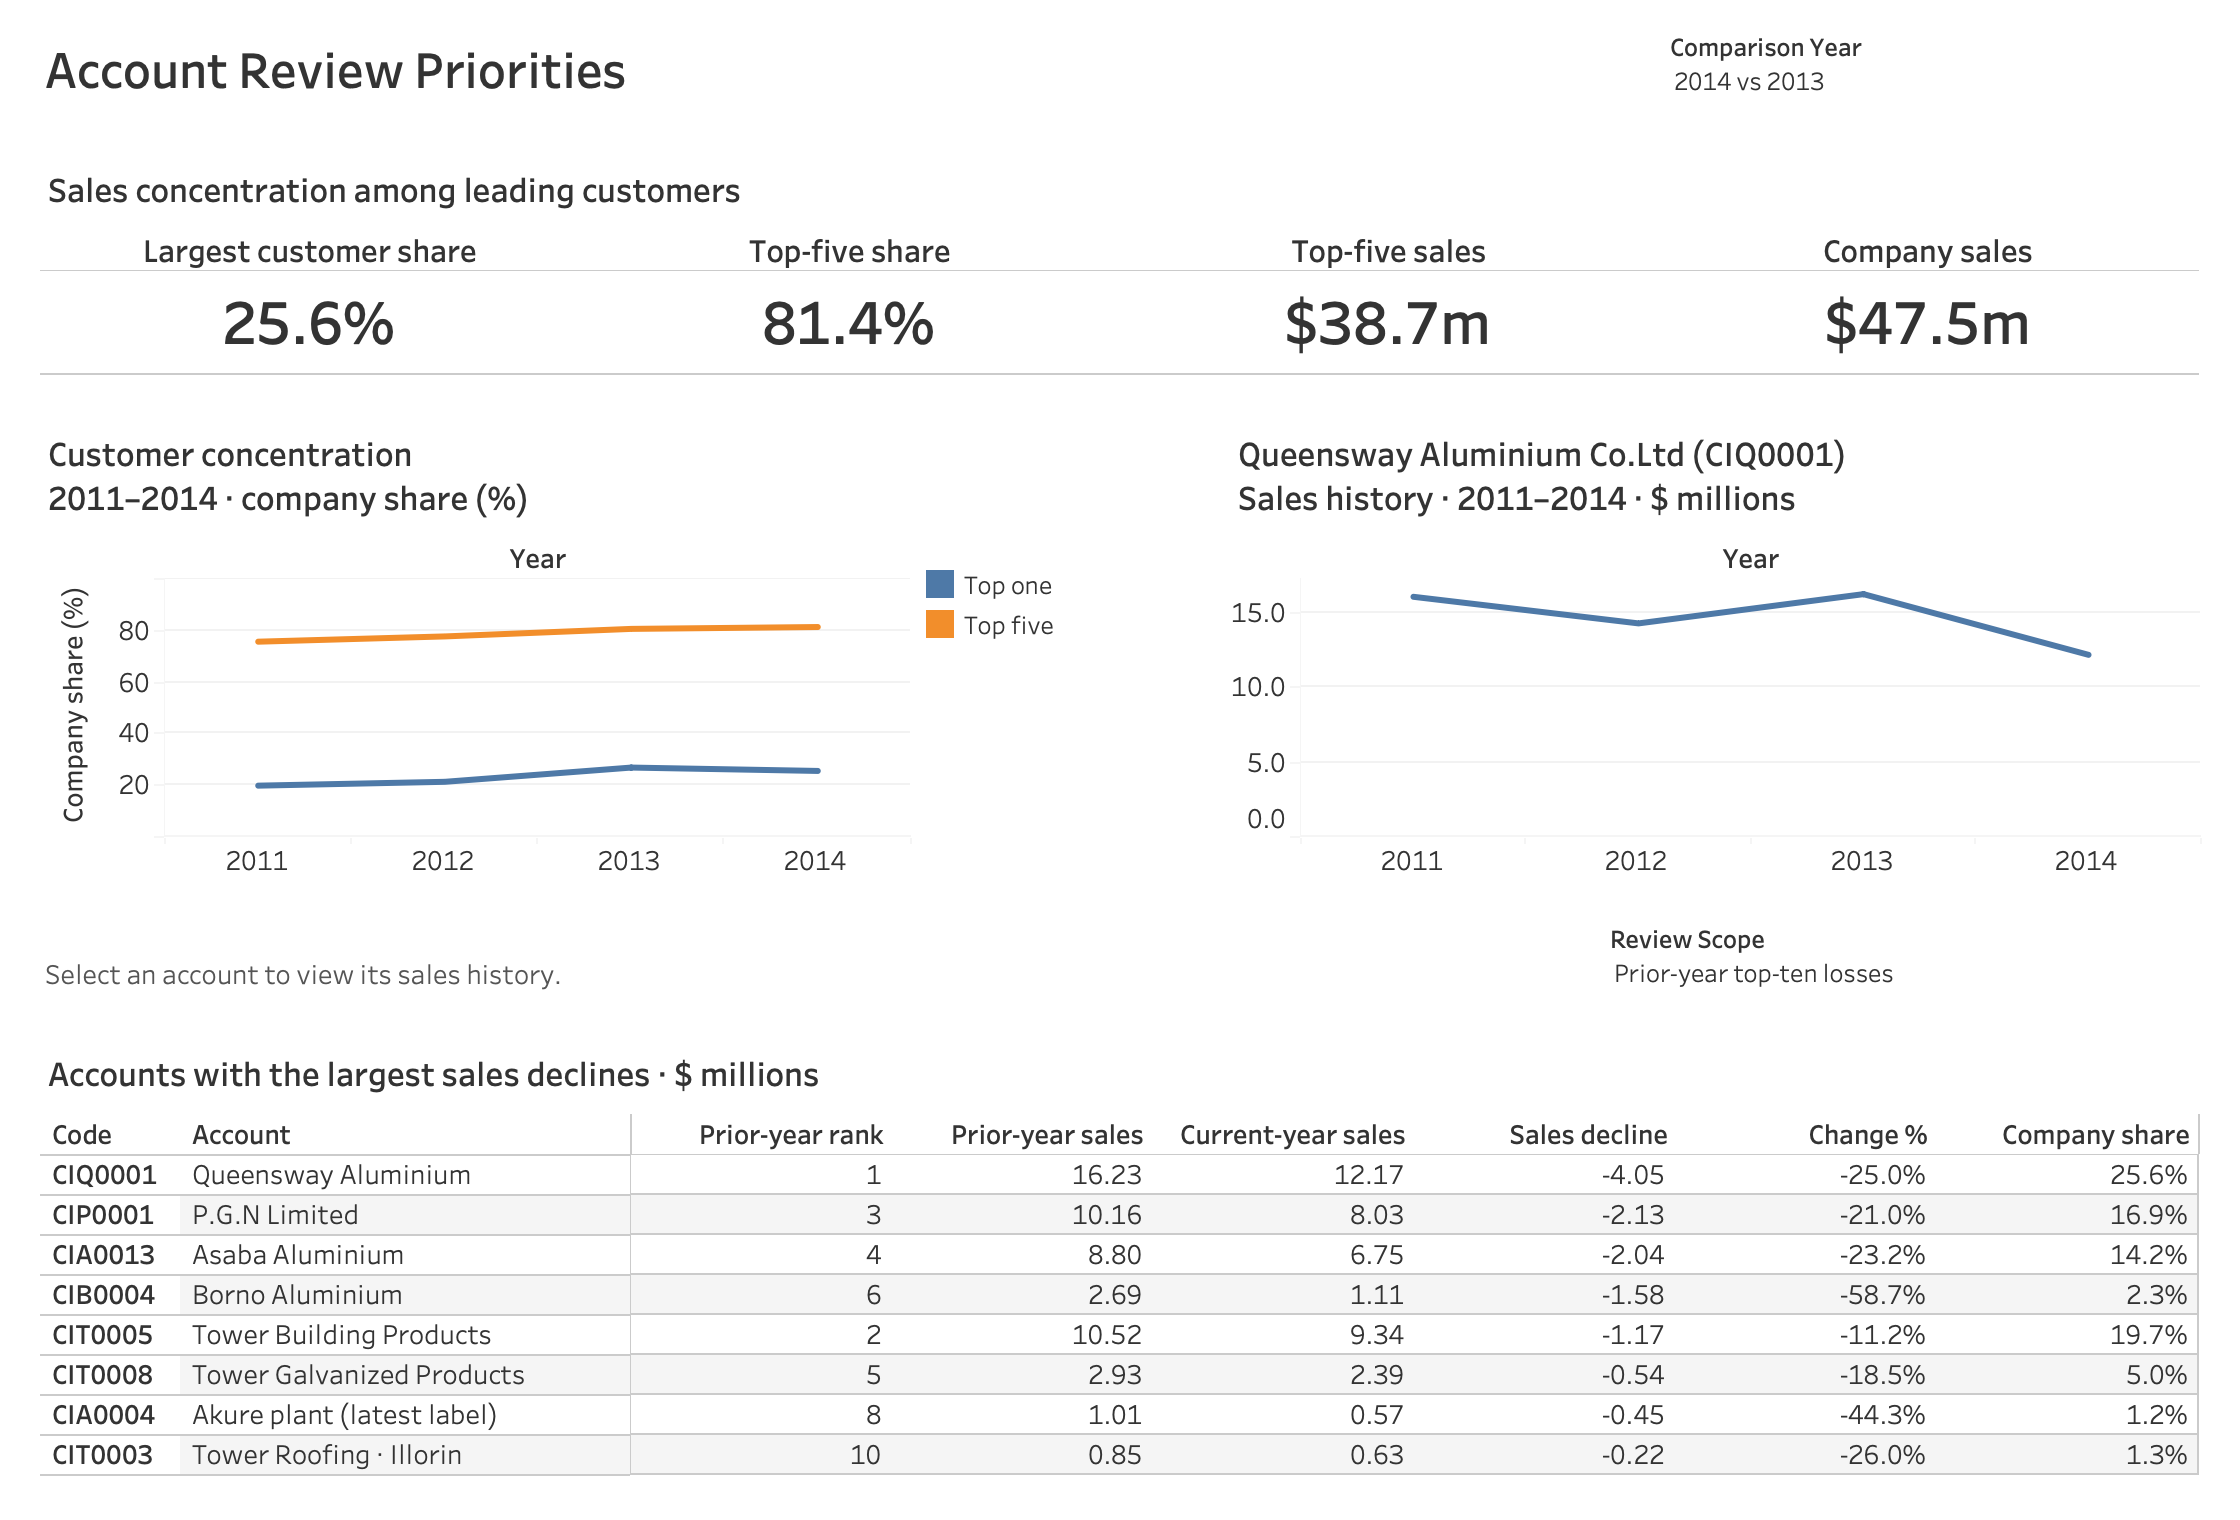

What the dashboard file says about the page in this screenshot:
{"tool":"tableau","page":{"name":"Account Review Priorities","canvas":[1120,760],"ordinal":0},"visuals":[{"type":"text","box":[20,14,760,40]},{"type":"parameter","param":"[Parameters].[Parameter 0333204537974784]","box":[835,14,265,50]},{"type":"worksheet","title":"A1 Concentration summary","mark":"Text","box":[20,78,1080,110]},{"type":"worksheet","title":"A2 Concentration history","mark":"Line","cols":["year"],"box":[20,210,435,230]},{"type":"worksheet","title":"A4 Selected account history","mark":"Line","rows":["Display_Account_Sales_Millions"],"cols":["year"],"box":[615,210,485,230]},{"type":"legend","title":"A2 Concentration history","param":"[federated.04vaqaw13rtyc70zrsabm1l6ggsb].[:Measure Names]","box":[460,282,145,100]},{"type":"parameter","param":"[Parameters].[Parameter 0333204611452928]","box":[805,460,295,50]},{"type":"text","box":[20,466,740,42]},{"type":"worksheet","title":"A3 Account review","mark":"Text","rows":["customer_code","Display_Account_Label"],"box":[20,520,1080,225]}]}

Visuals, with their boxes in screenshot pixels (x1, y1, x2, y2), scaled from the page's 1120x760 canvas onto the 2240x1520 screenshot:
text: l=40, t=28, r=1560, b=108
parameter: l=1670, t=28, r=2200, b=128
"A1 Concentration summary" worksheet (Text marks): l=40, t=156, r=2200, b=376
"A2 Concentration history" worksheet (Line marks): l=40, t=420, r=910, b=880
"A4 Selected account history" worksheet (Line marks): l=1230, t=420, r=2200, b=880
"A2 Concentration history" legend: l=920, t=564, r=1210, b=764
parameter: l=1610, t=920, r=2200, b=1020
text: l=40, t=932, r=1520, b=1016
"A3 Account review" worksheet (Text marks): l=40, t=1040, r=2200, b=1490
